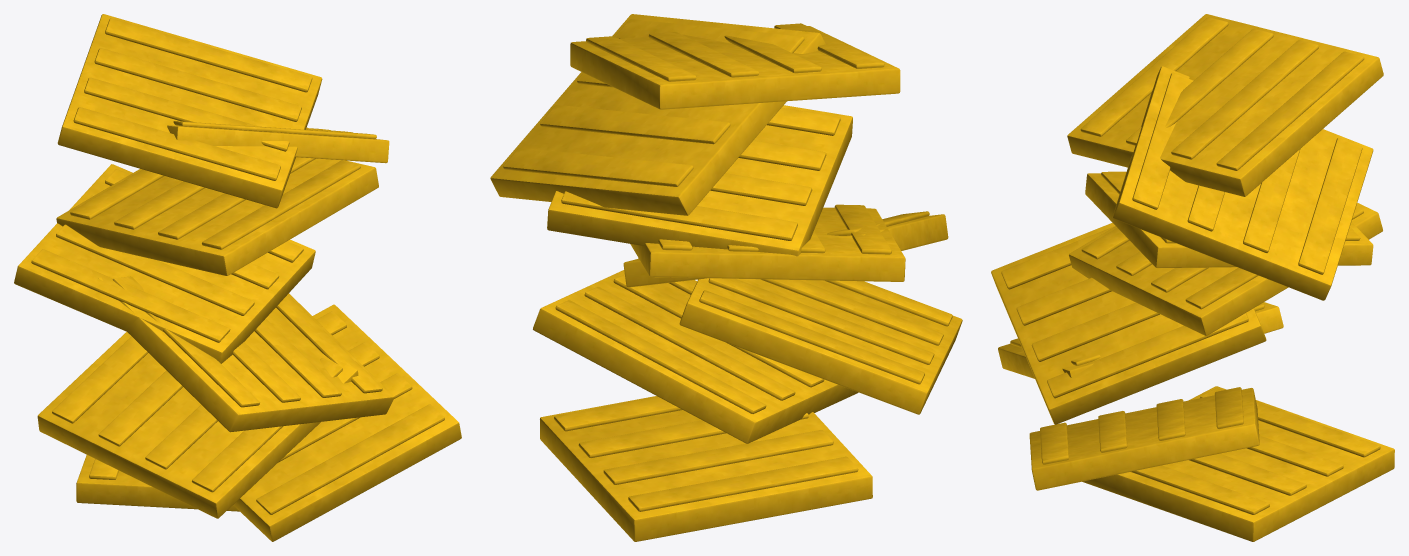
The model's file is PAV-CAL-005_anim.glb.
The picture shows the model from 3 angles, left to right: view 1: azimuth 30°, elevation 25°; view 2: azimuth 150°, elevation 25°; view 3: azimuth 270°, elevation 25°; orthographic projection. The views are drawn at different scales.
Visible parts, largest first — view 1: PAV-CAL-005_anim7, PAV-CAL-005_anim2, PAV-CAL-005_anim4, PAV-CAL-005_anim5, PAV-CAL-005_anim3, PAV-CAL-005_anim1, PAV-CAL-005_anim6, PAV-CAL-005_anim0; view 2: PAV-CAL-005_anim0, PAV-CAL-005_anim6, PAV-CAL-005_anim1, PAV-CAL-005_anim2, PAV-CAL-005_anim5, PAV-CAL-005_anim7, PAV-CAL-005_anim4, PAV-CAL-005_anim3; view 3: PAV-CAL-005_anim7, PAV-CAL-005_anim6, PAV-CAL-005_anim3, PAV-CAL-005_anim0, PAV-CAL-005_anim1, PAV-CAL-005_anim4, PAV-CAL-005_anim5, PAV-CAL-005_anim2.
Part boxes in pixels (<box>): PAV-CAL-005_anim7: <box>57,14,322,208</box>; PAV-CAL-005_anim2: <box>37,332,358,518</box>; PAV-CAL-005_anim4: <box>14,164,315,363</box>; PAV-CAL-005_anim5: <box>56,157,378,275</box>; PAV-CAL-005_anim3: <box>98,275,394,432</box>; PAV-CAL-005_anim1: <box>233,304,461,541</box>; PAV-CAL-005_anim6: <box>167,121,389,163</box>; PAV-CAL-005_anim0: <box>76,455,239,511</box>; PAV-CAL-005_anim0: <box>540,396,872,541</box>; PAV-CAL-005_anim6: <box>490,14,825,215</box>; PAV-CAL-005_anim1: <box>533,270,858,443</box>; PAV-CAL-005_anim2: <box>679,278,962,414</box>; PAV-CAL-005_anim5: <box>547,105,852,256</box>; PAV-CAL-005_anim7: <box>570,23,900,109</box>; PAV-CAL-005_anim4: <box>630,204,905,281</box>; PAV-CAL-005_anim3: <box>623,211,948,287</box>; PAV-CAL-005_anim7: <box>1067,14,1383,196</box>; PAV-CAL-005_anim6: <box>1112,66,1373,300</box>; PAV-CAL-005_anim3: <box>991,223,1266,424</box>; PAV-CAL-005_anim0: <box>1082,386,1394,541</box>; PAV-CAL-005_anim1: <box>1029,387,1259,490</box>; PAV-CAL-005_anim4: <box>1069,203,1382,335</box>; PAV-CAL-005_anim5: <box>1085,171,1373,268</box>; PAV-CAL-005_anim2: <box>998,302,1283,378</box>.
Bounding box in the file's own units: 0.4274 × 0.4892 × 0.4413.
Materials: 1 (1 with a texture image).
